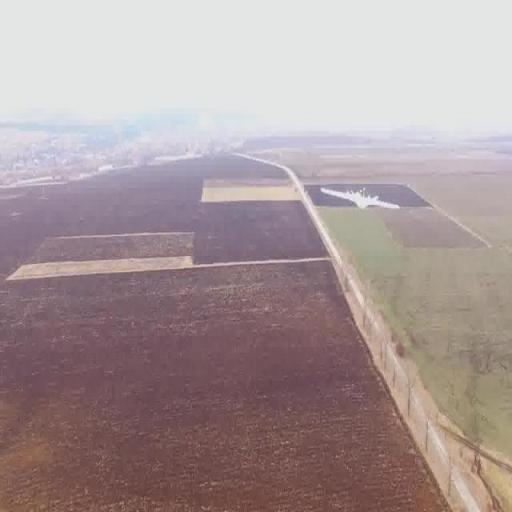uav: (320, 175, 406, 225)
